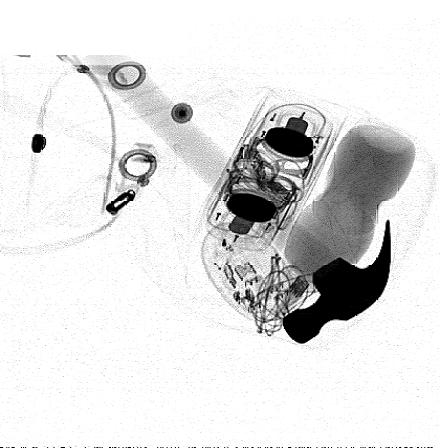Hammer: (83, 52, 393, 346)
